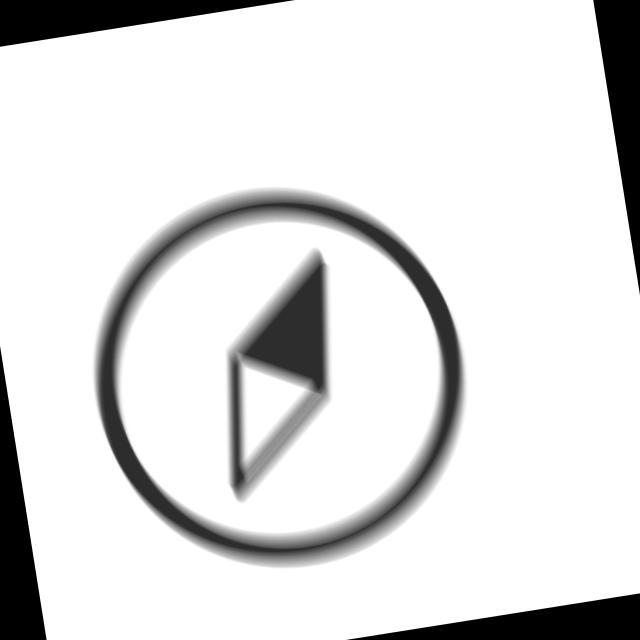compass: (62, 156, 501, 605)
